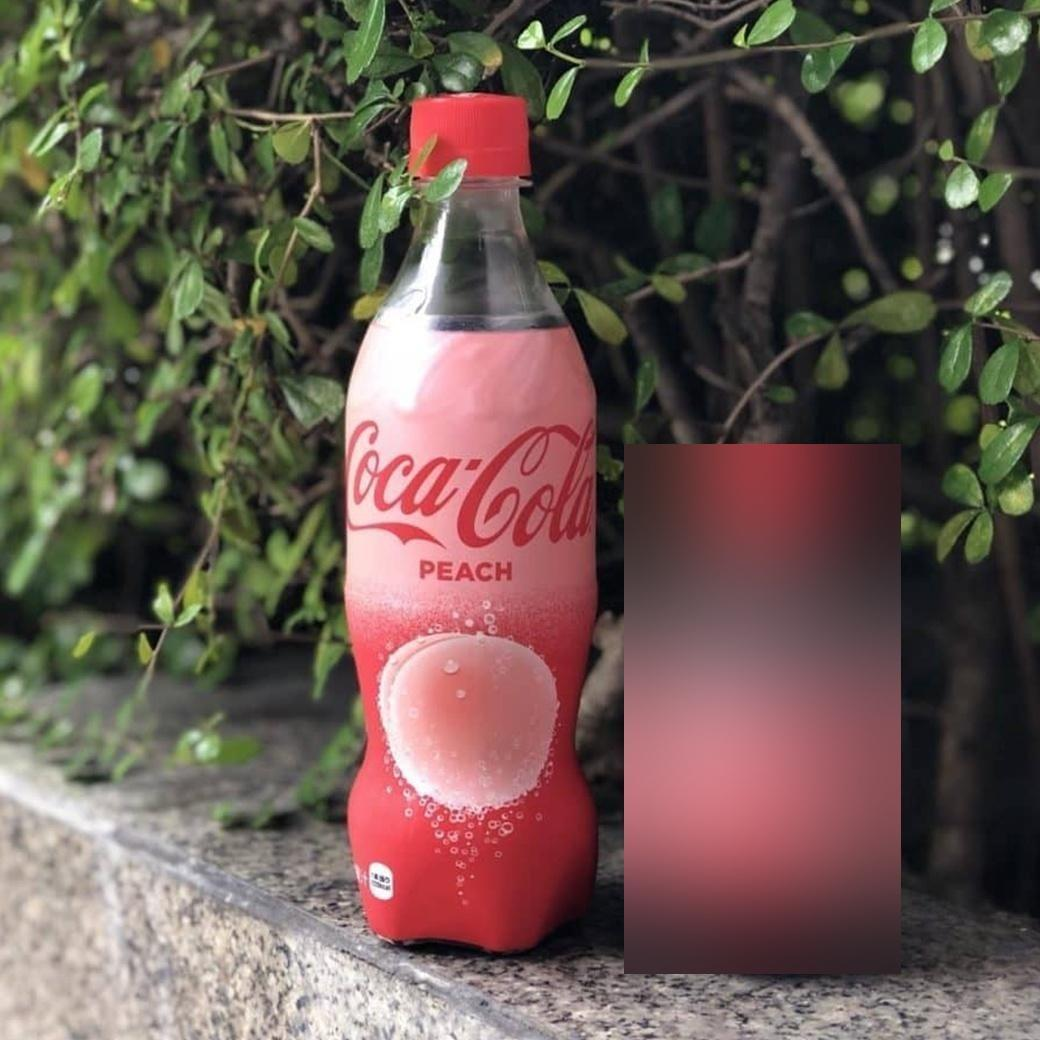bottle-plastic: (332, 82, 607, 965)
